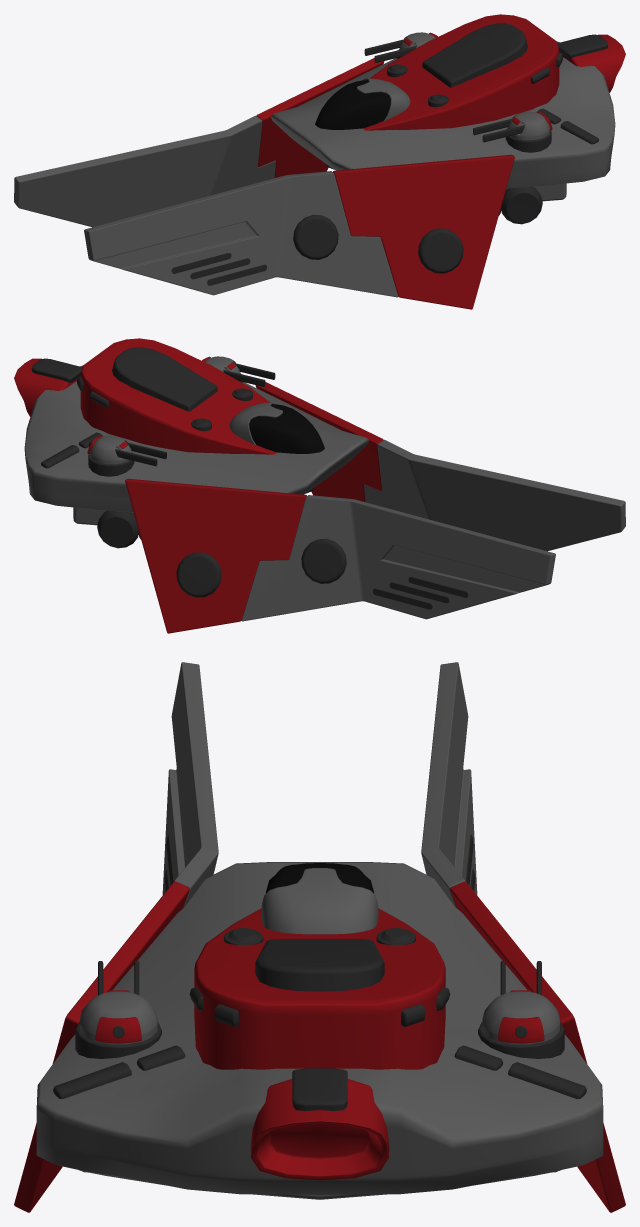
File: Corvette_05.fbx
3 renders of one model, top to bottom at view 1: azimuth 30°, elevation 25°; view 2: azimuth 150°, elevation 25°; view 3: azimuth 270°, elevation 25°, orthographic. The views are drawn at different scales.
Visible parts, largest first — view 1: Corvette_05; view 2: Corvette_05; view 3: Corvette_05.
Boxes of the visible parts, x1,y1,x2,y2 form: Corvette_05: [14, 14, 625, 309]; Corvette_05: [14, 338, 625, 633]; Corvette_05: [14, 662, 625, 1212].
Size of the model in its own units: 2729 by 888 by 1379.
